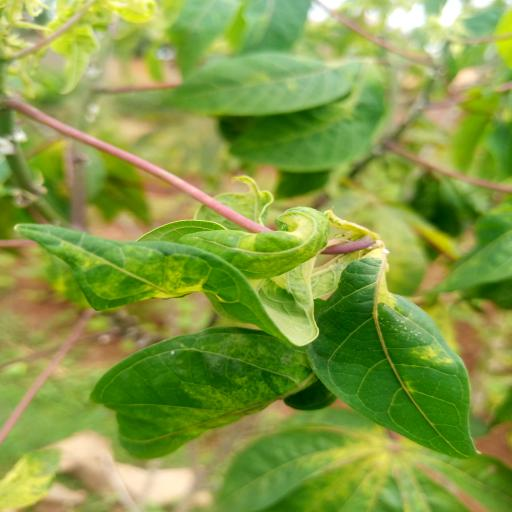Cassava_Mosaic: (17, 179, 488, 476)
